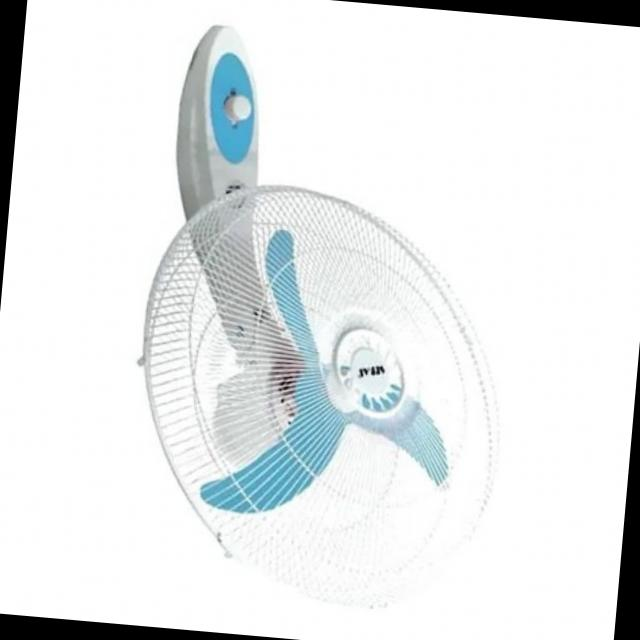fan: (79, 9, 549, 635)
